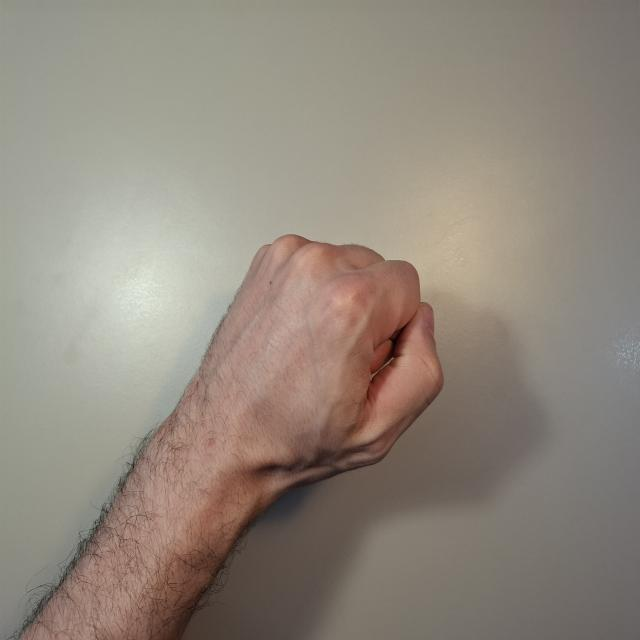glove_off: (186, 231, 446, 518)
